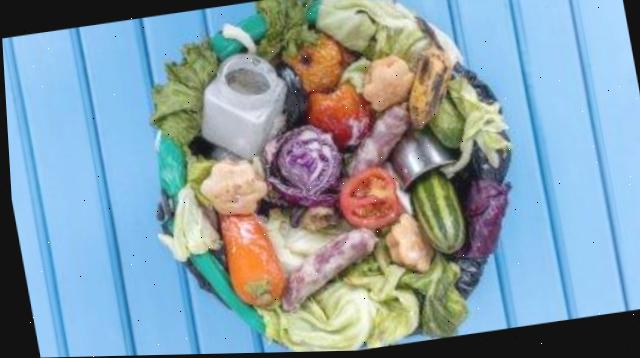Garbage: (157, 2, 511, 353)
Metal: (388, 130, 455, 190)
Plastic_bottle: (200, 24, 285, 159)
contaminated_waste: (200, 24, 285, 159), (388, 131, 455, 190)
